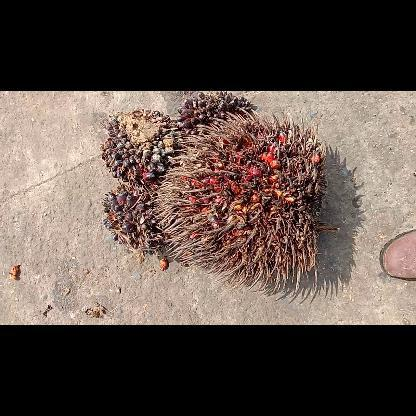TBS abnormal: (99, 107, 189, 184), (102, 182, 166, 256), (172, 91, 254, 138)
Terlalu masak: (150, 106, 330, 294)
